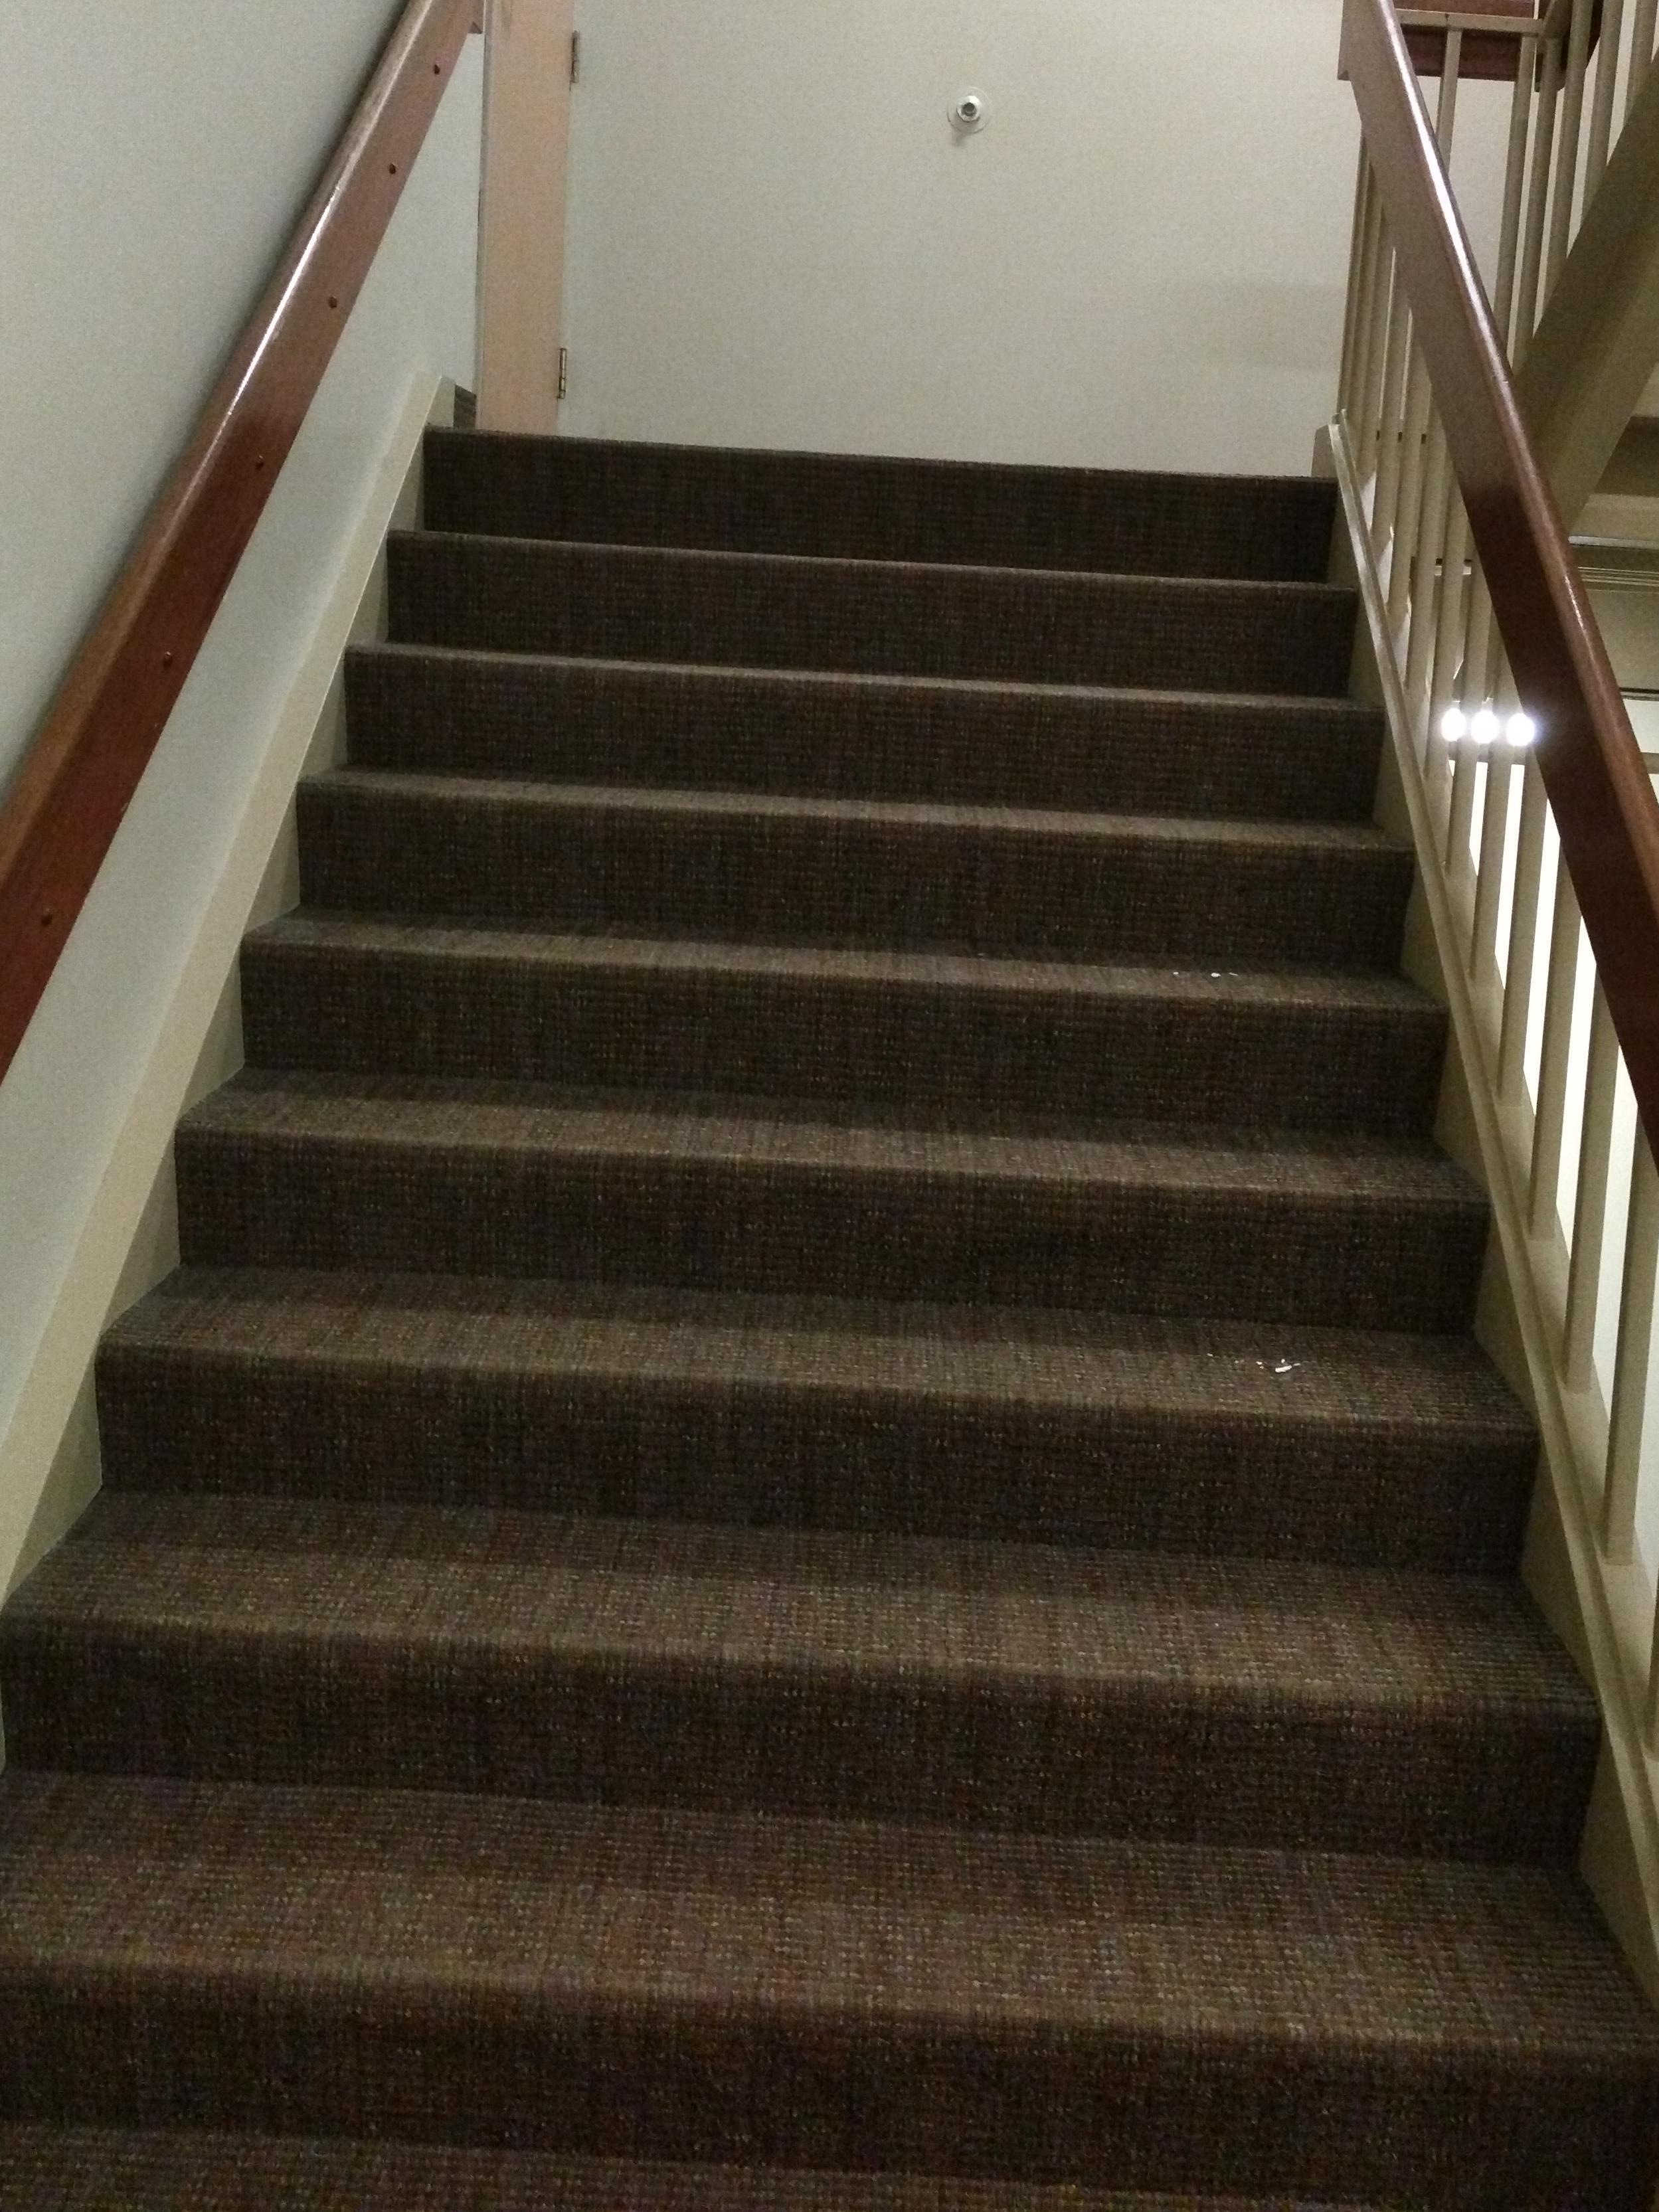stairs_up: (24, 394, 1636, 2177)
